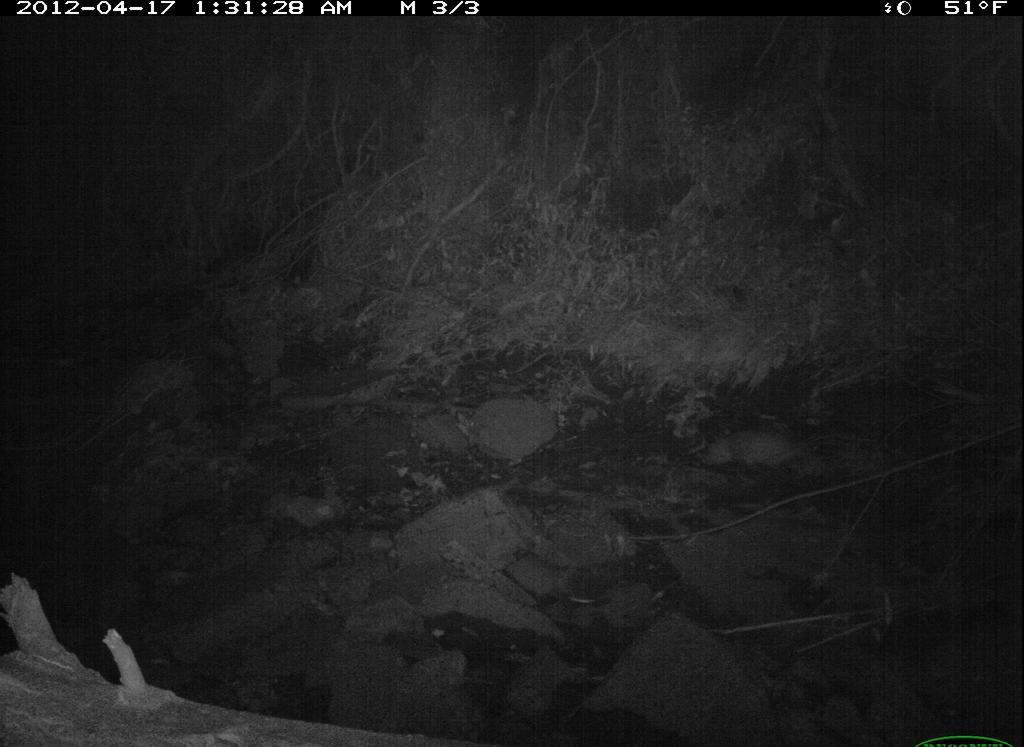opossum: (699, 427, 818, 486)
